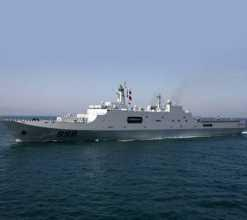warship: (7, 86, 247, 144)
